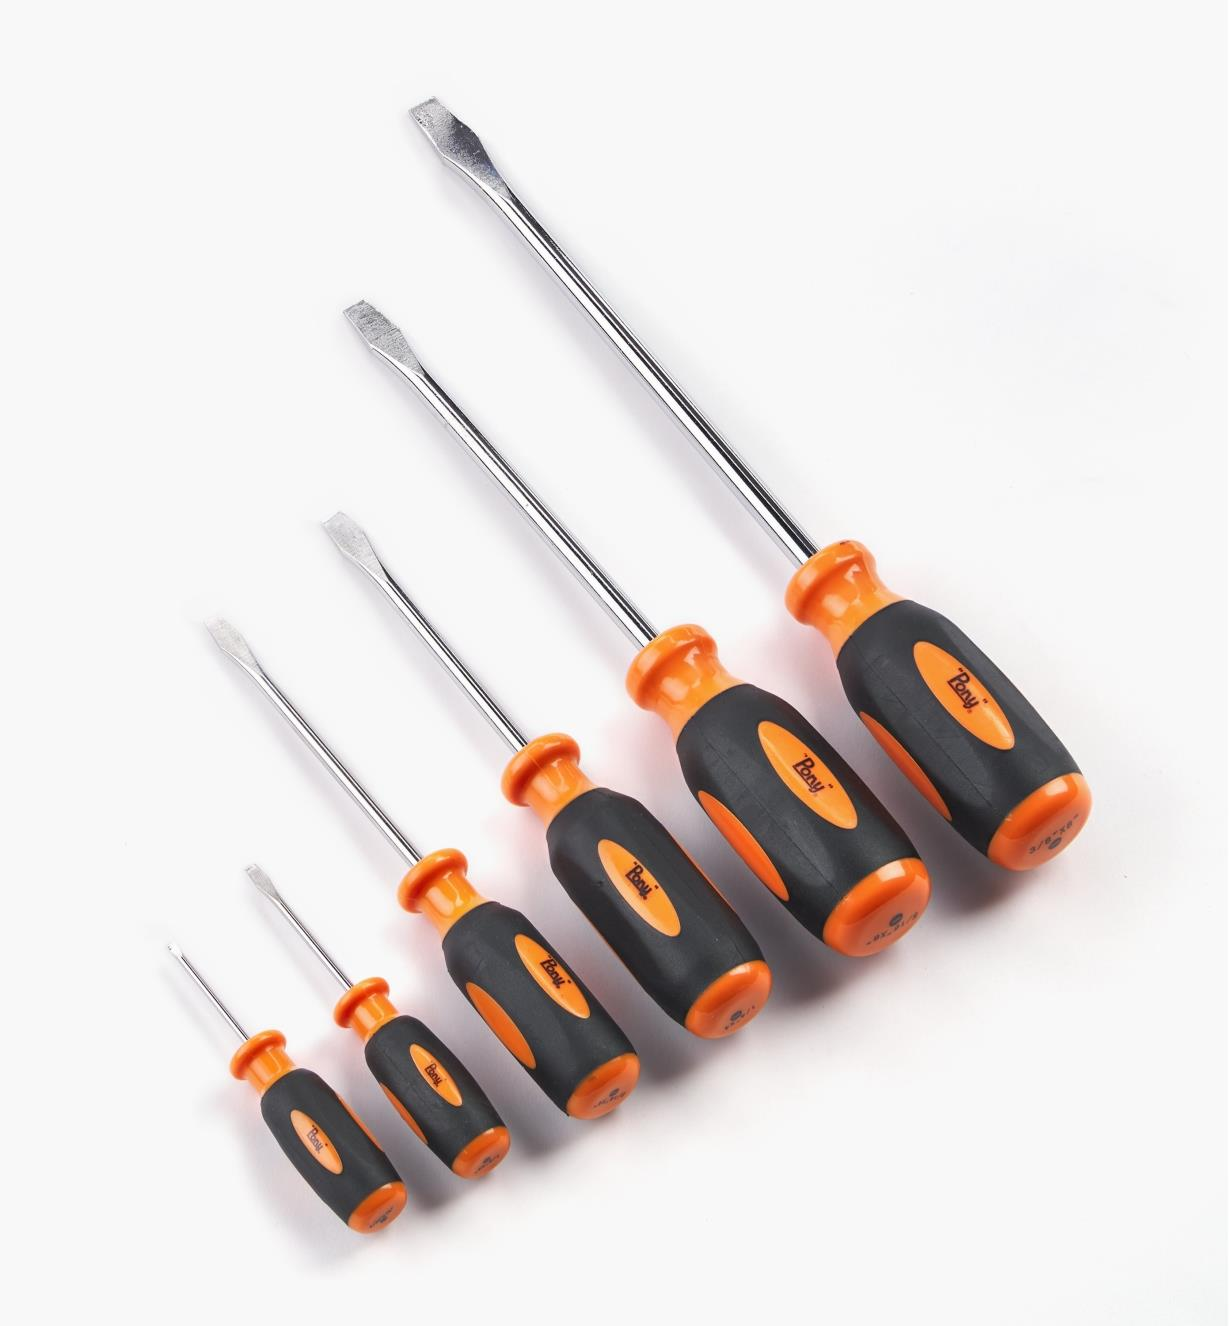screwdriver: (403, 95, 1095, 876), (341, 298, 933, 961), (311, 514, 772, 1044), (202, 614, 643, 1125), (239, 857, 513, 1180), (159, 934, 411, 1232)
